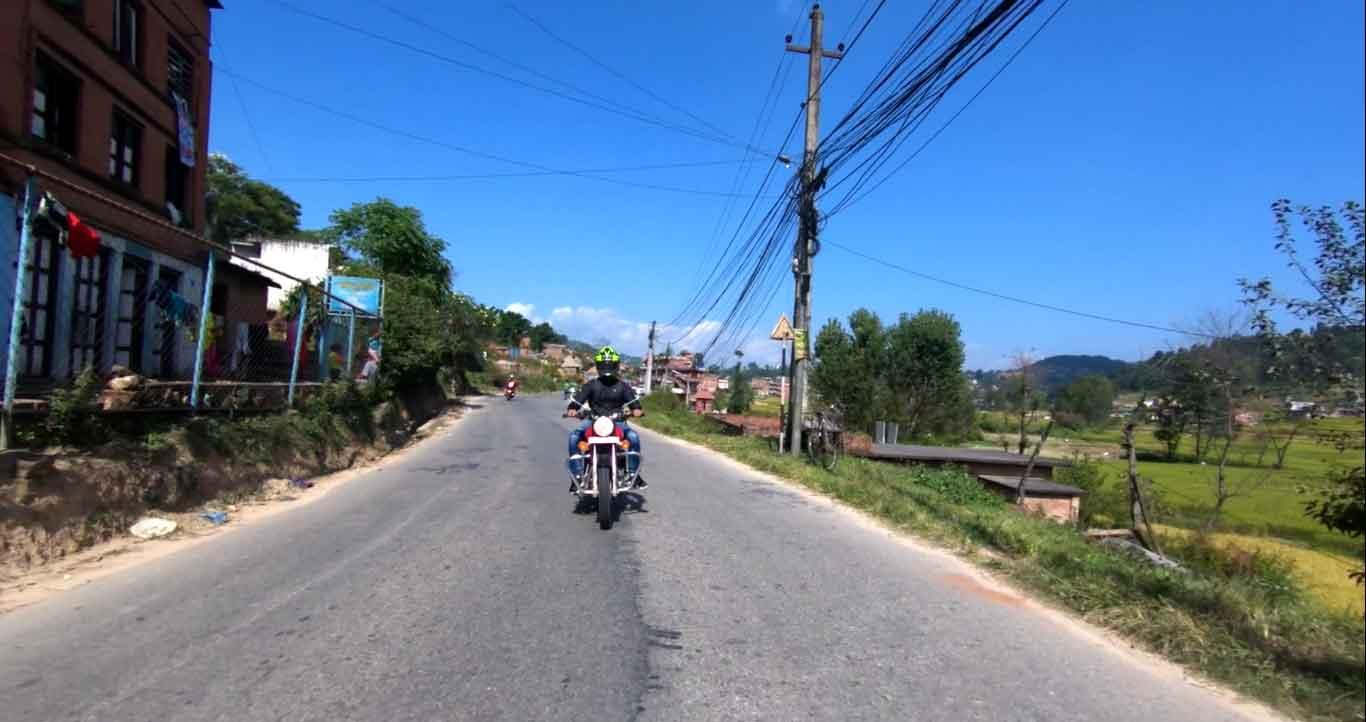bike: (554, 380, 661, 533)
